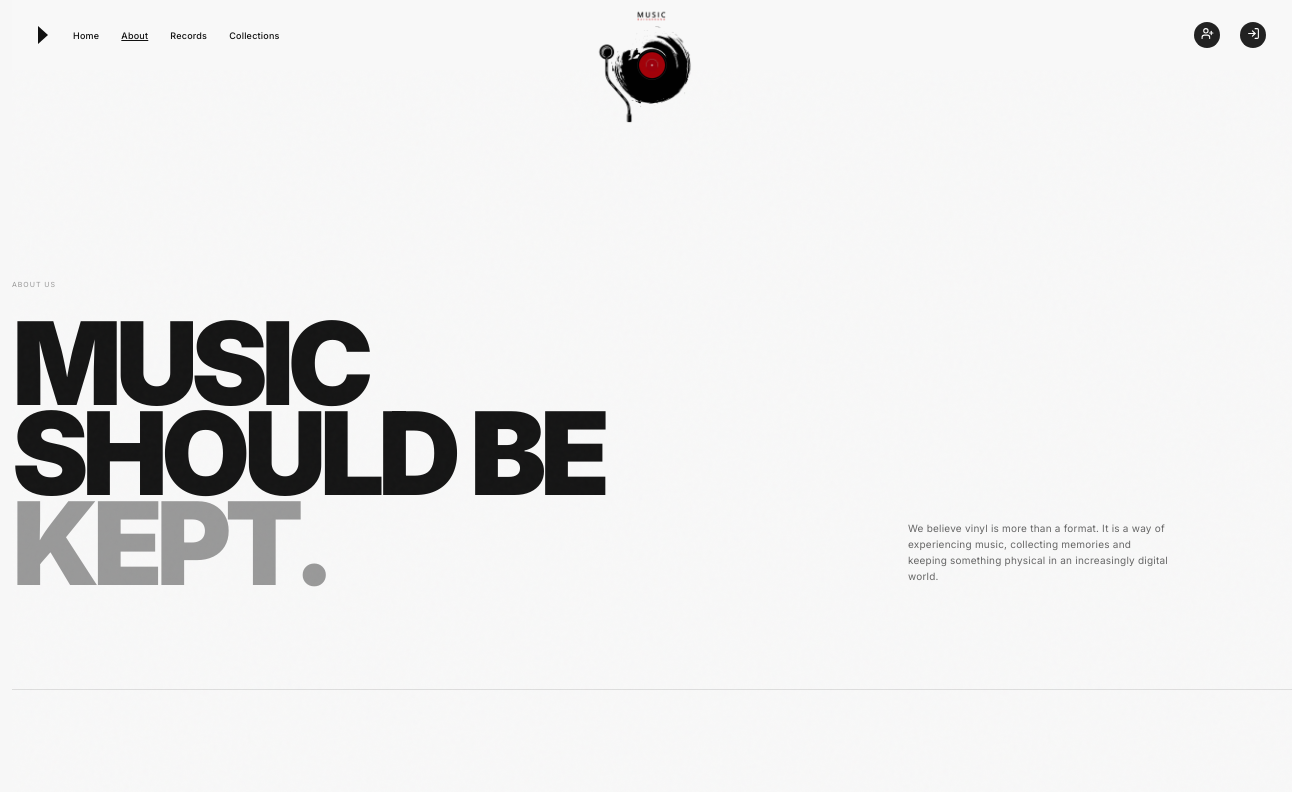
Test case: Navigation test › should navigate to the login page correctly
What coordinates should you click on to do the following:
click the link named "login"
I would click on:
 (1253, 35)
Its box is [1240,22,1266,48].
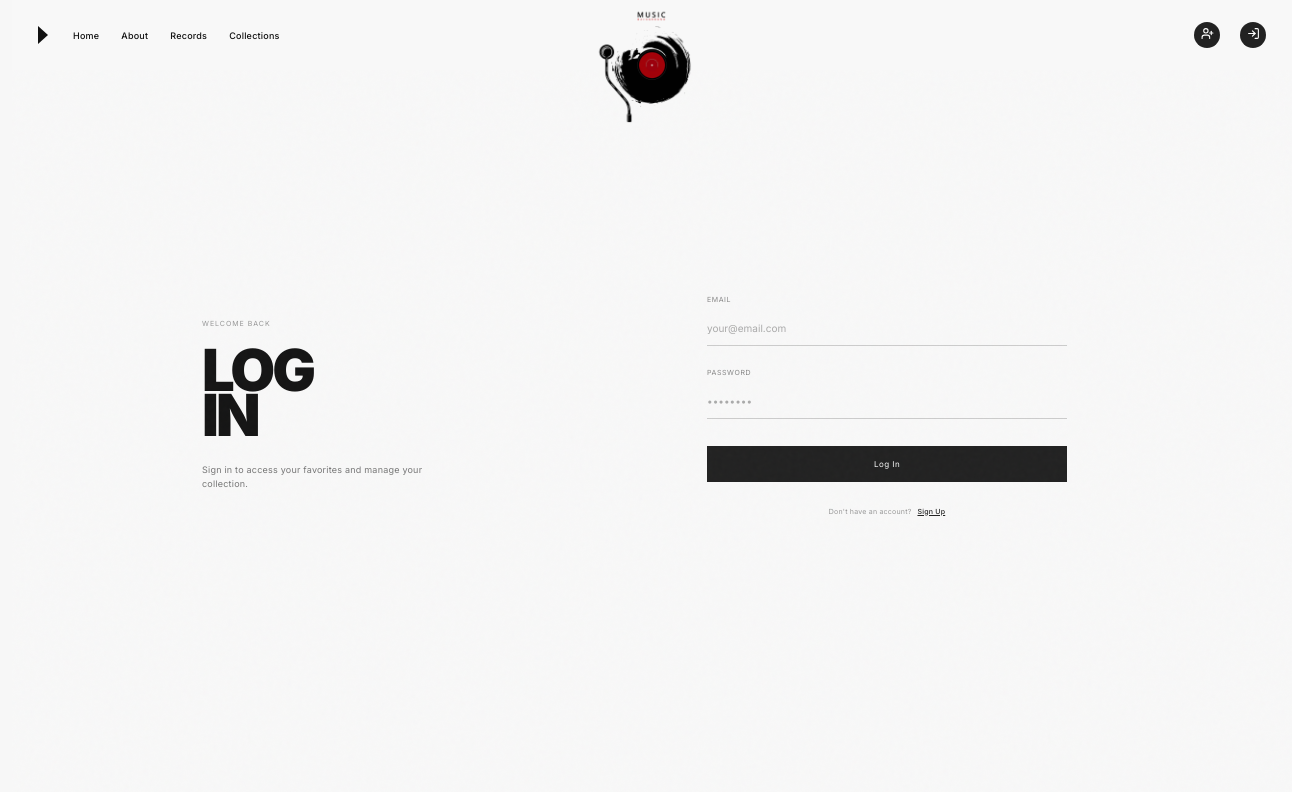
Check: the button "Log In" is shown, box [707,446,1067,482]
